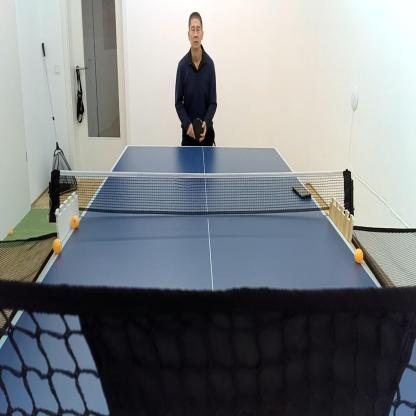Ball: (353, 248, 364, 264), (51, 240, 62, 254), (72, 216, 80, 230), (9, 230, 14, 235)
